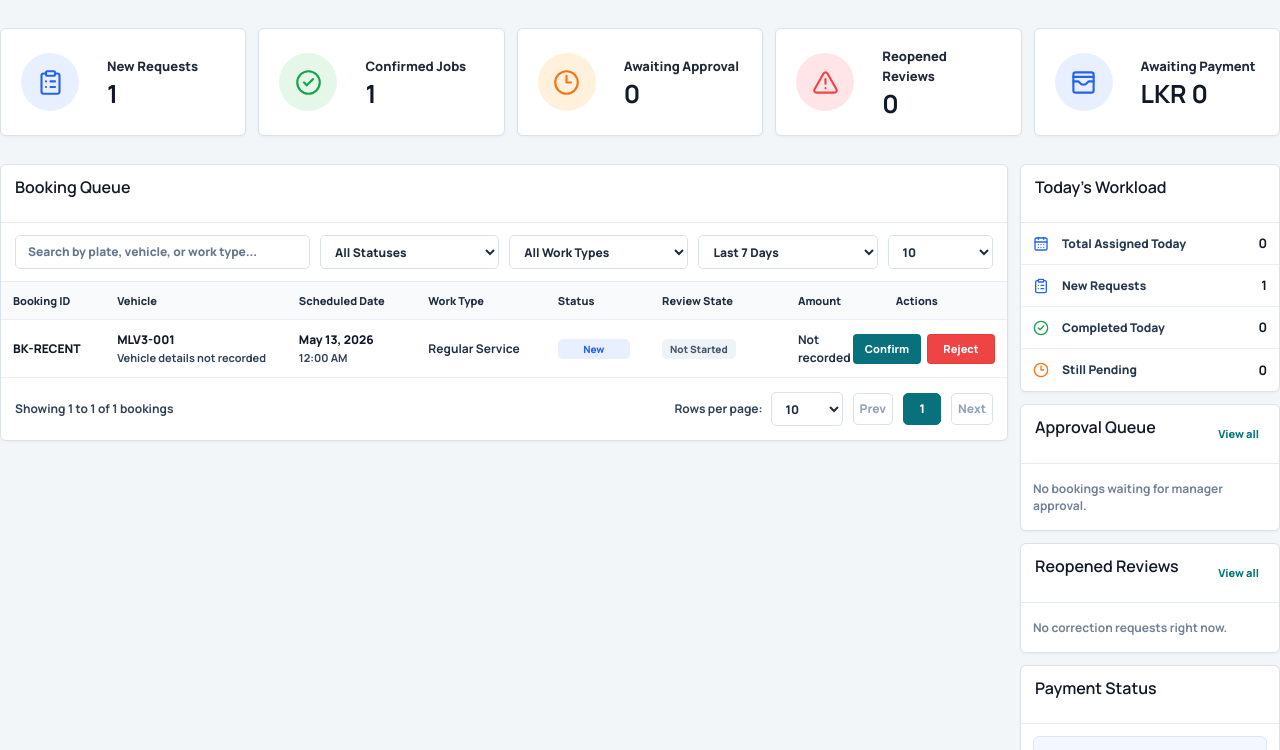
Test: ServicePortal booking filters › shows custom date fields without breaking the filter controls
Expected: the text "MLV3-001" is shown, [117, 331, 175, 348]
Select "Custom" in the 3rd dropdown named "Date Range". click: (788, 252)
box: [698, 235, 878, 269]
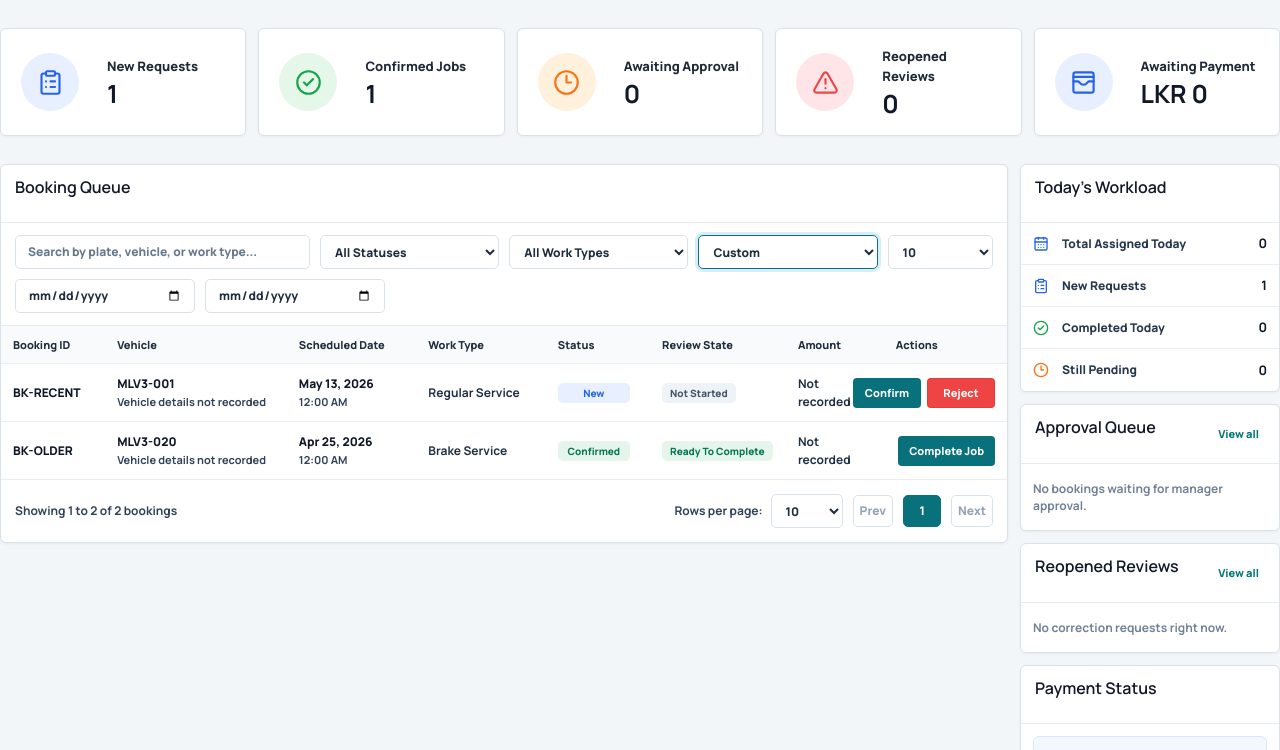
Expected: the 1st dropdown named "Status" is shown, [320, 235, 499, 269]
Expected: the date field named "Custom range start date" is shown, [15, 279, 195, 313]
Expected: the date field named "Custom range end date" is shown, [205, 279, 385, 313]
